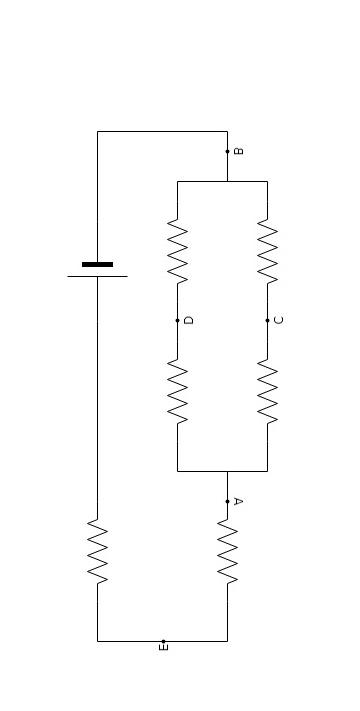resistor: (60, 502, 129, 606), (148, 200, 204, 304), (196, 502, 250, 608), (231, 200, 287, 284)
